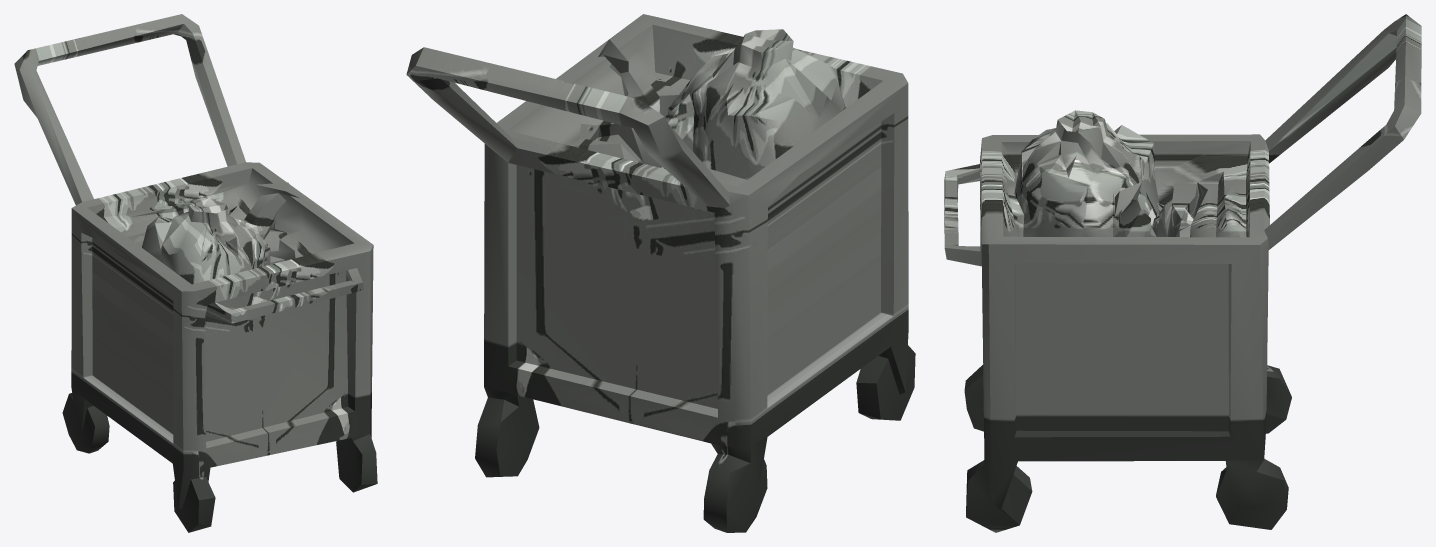
The picture shows the model from 3 angles, left to right: view 1: azimuth 30°, elevation 25°; view 2: azimuth 150°, elevation 25°; view 3: azimuth 270°, elevation 25°; orthographic projection. The views are drawn at different scales.
Parts seen in each view (by area): view 1: Decor_janitor_cart_c; view 2: Decor_janitor_cart_c; view 3: Decor_janitor_cart_c.
Boxes of the visible parts, box(x1,y1,x2,y2) form: Decor_janitor_cart_c: box(14, 14, 377, 532); Decor_janitor_cart_c: box(406, 14, 915, 532); Decor_janitor_cart_c: box(944, 14, 1421, 532).
Bounding box in the file's own units: 0.6337 × 1.1 × 1.13.
1 material, 1 textured.
